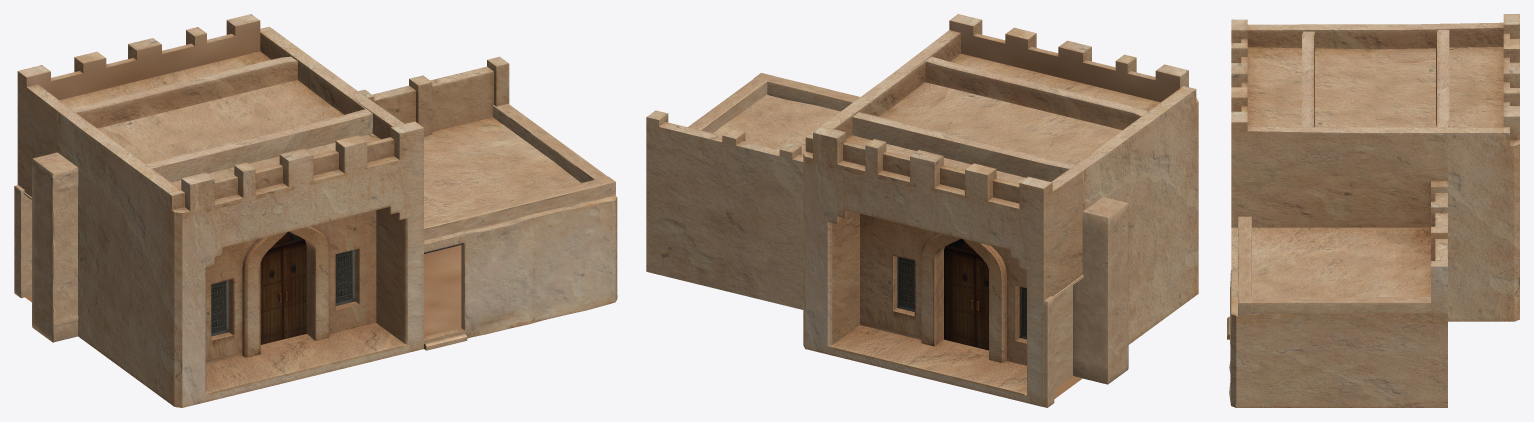
The model's file is build1a.gltf.
3 views of the same model, side by side, from view 1: azimuth 30°, elevation 25°; view 2: azimuth 150°, elevation 25°; view 3: azimuth 270°, elevation 25° (orthographic). The views are drawn at different scales.
Parts seen in each view (by area): view 1: build1a; view 2: build1a; view 3: build1a.
Part boxes in pixels (bbox=[...]): build1a: bbox=[14, 14, 617, 407]; build1a: bbox=[646, 14, 1198, 407]; build1a: bbox=[1227, 14, 1519, 407].
Bounding box in the file's own units: 13.86 × 6.26 × 8.32.
2 materials, 2 textured.
